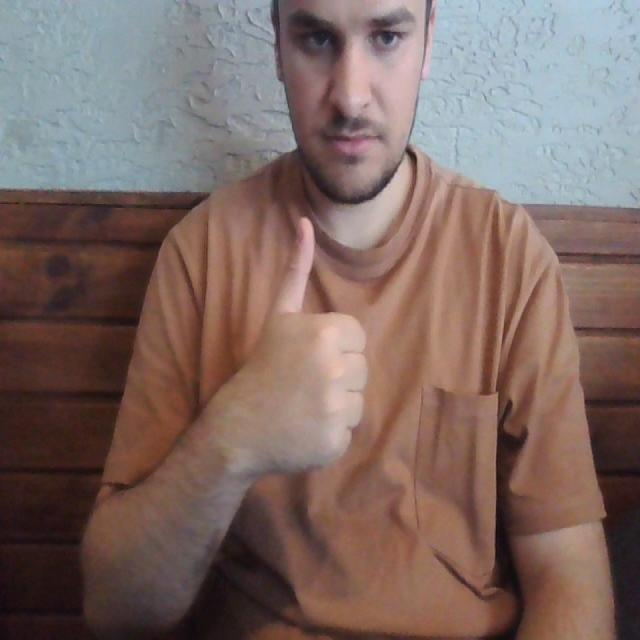Tamam: (228, 212, 373, 488)
